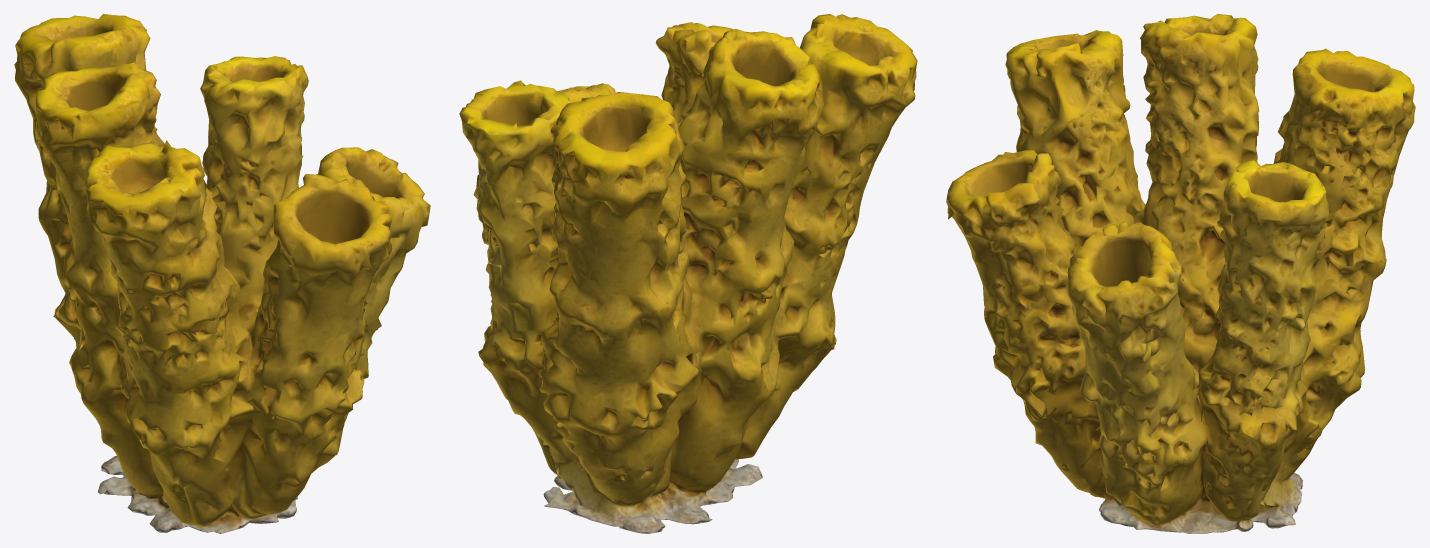
The model's file is sponge_tube.glb.
3 views of the same model, side by side, from view 1: azimuth 30°, elevation 25°; view 2: azimuth 150°, elevation 25°; view 3: azimuth 270°, elevation 25° (orthographic). The views are drawn at different scales.
Parts seen in each view (by area): view 1: tripo_node_7ffaf873-0331-4336-b8ca-ae0ccd7a5962; view 2: tripo_node_7ffaf873-0331-4336-b8ca-ae0ccd7a5962; view 3: tripo_node_7ffaf873-0331-4336-b8ca-ae0ccd7a5962.
Part boxes in pixels (box(x1,y1,x2,y2)): tripo_node_7ffaf873-0331-4336-b8ca-ae0ccd7a5962: box(14, 14, 430, 533); tripo_node_7ffaf873-0331-4336-b8ca-ae0ccd7a5962: box(459, 14, 917, 533); tripo_node_7ffaf873-0331-4336-b8ca-ae0ccd7a5962: box(946, 14, 1415, 533).
Bounding box in the file's own units: 0.8439 × 1 × 0.9795.
Materials: 1 (1 with a texture image).
